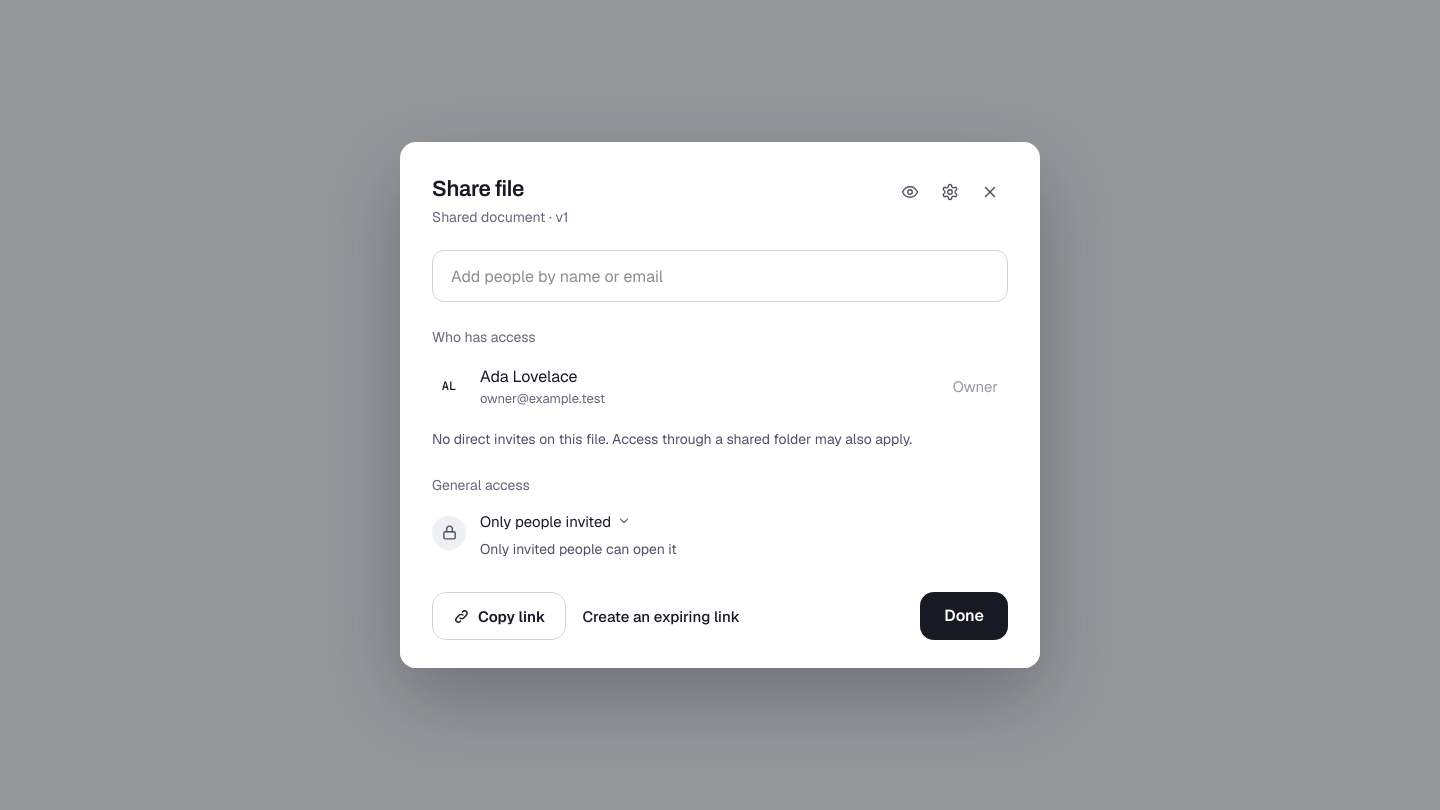
Test case: ShareDialog Invite view › opens on focus, picks from the checklist and invites with the role and pin in the input
Click the field labelled "Add people by name or email" at (720,276), box [432,250,1008,302]
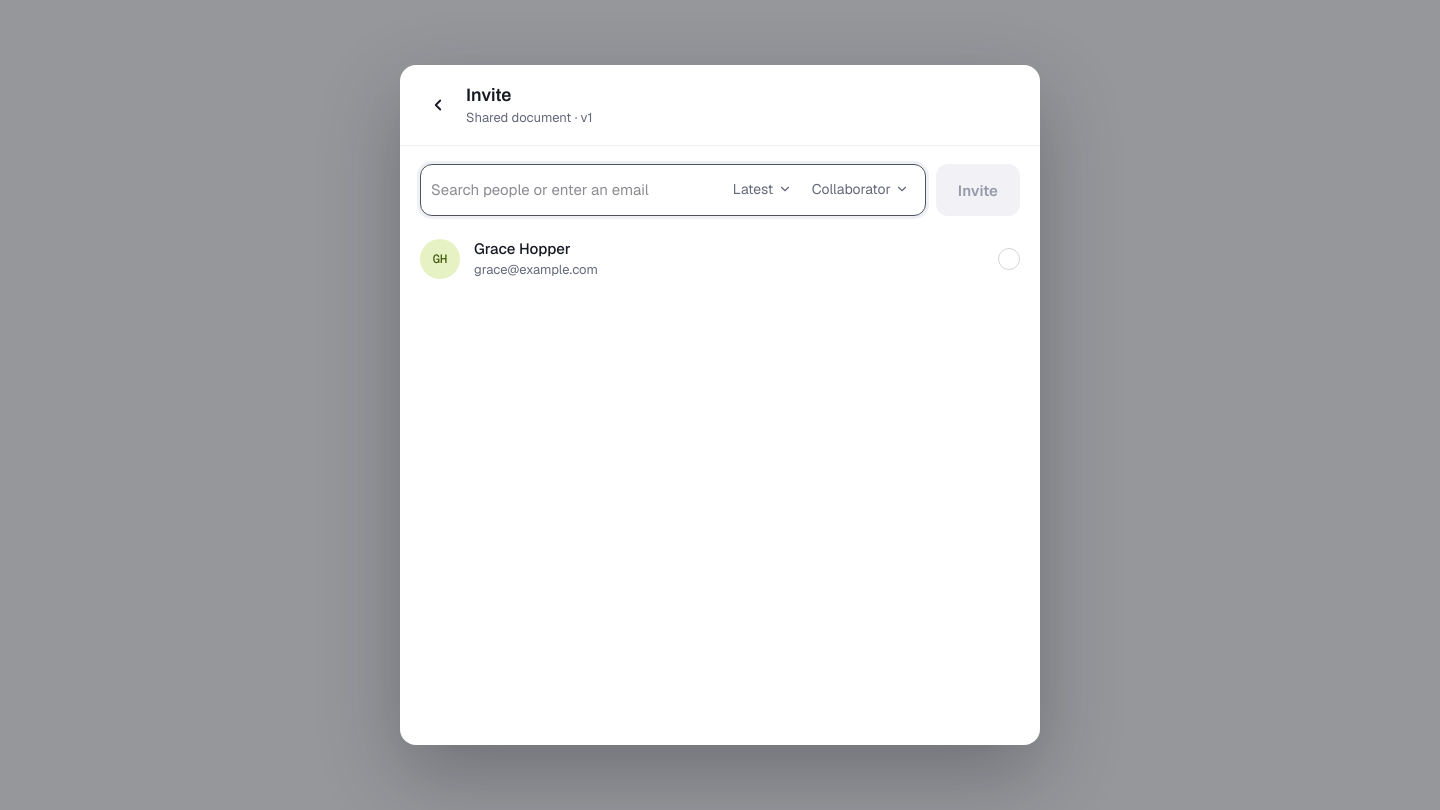
Check: the button "Invite" is disabled, box [936,164,1020,216]
Check: the heading "Invite" is shown, box [466,85,511,105]
Check: the dropdown named "Version they see" shows "Latest", box [723,173,800,205]
Click the checkbox labelled "GH Grace Hopper grace@example.com" at (440,259), box [408,228,1032,290]
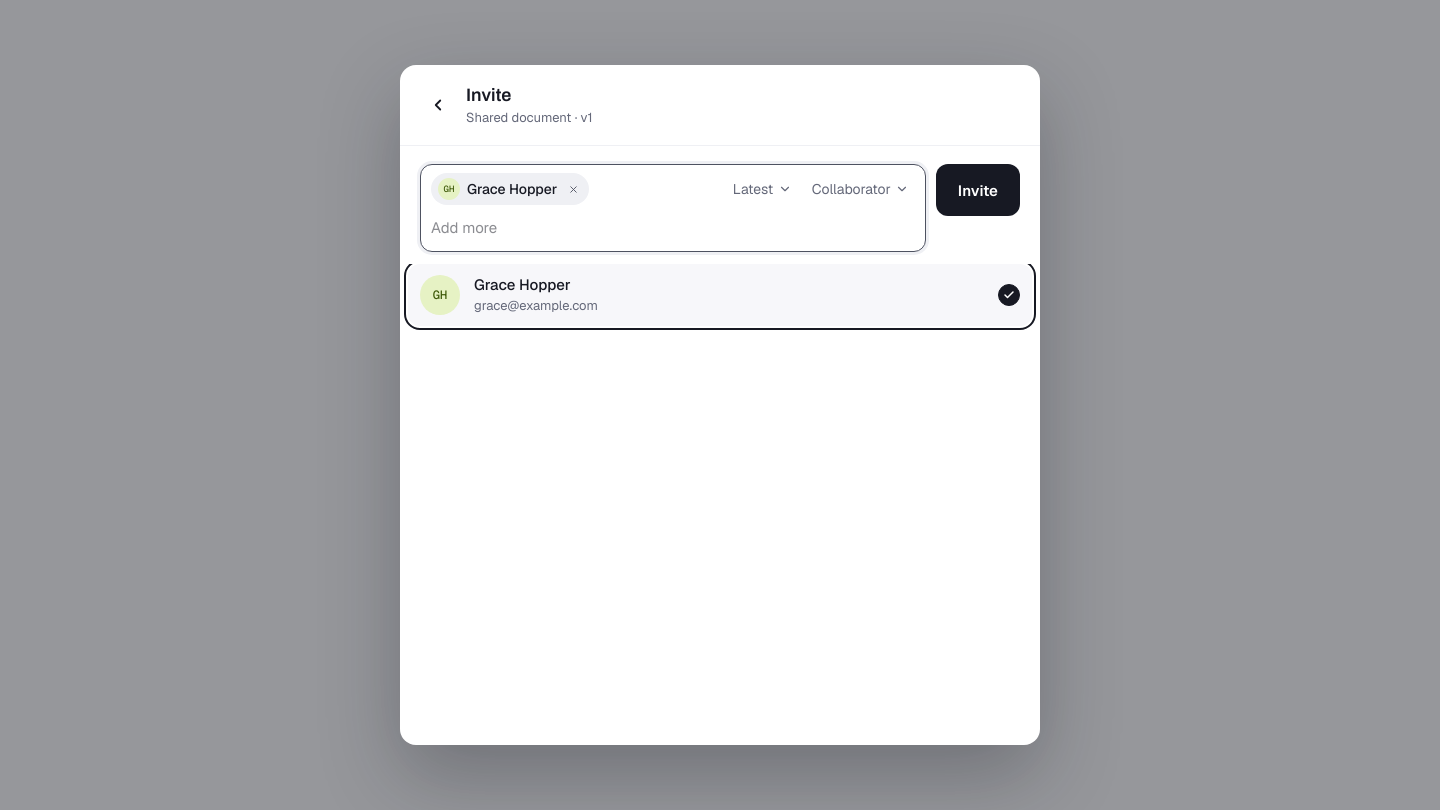
Check: the button named "Remove grace@example.com" is shown, box [564,180,582,198]
Select "Editor" in the dropdown named "Invite as" at (859,189), box [802,173,917,205]
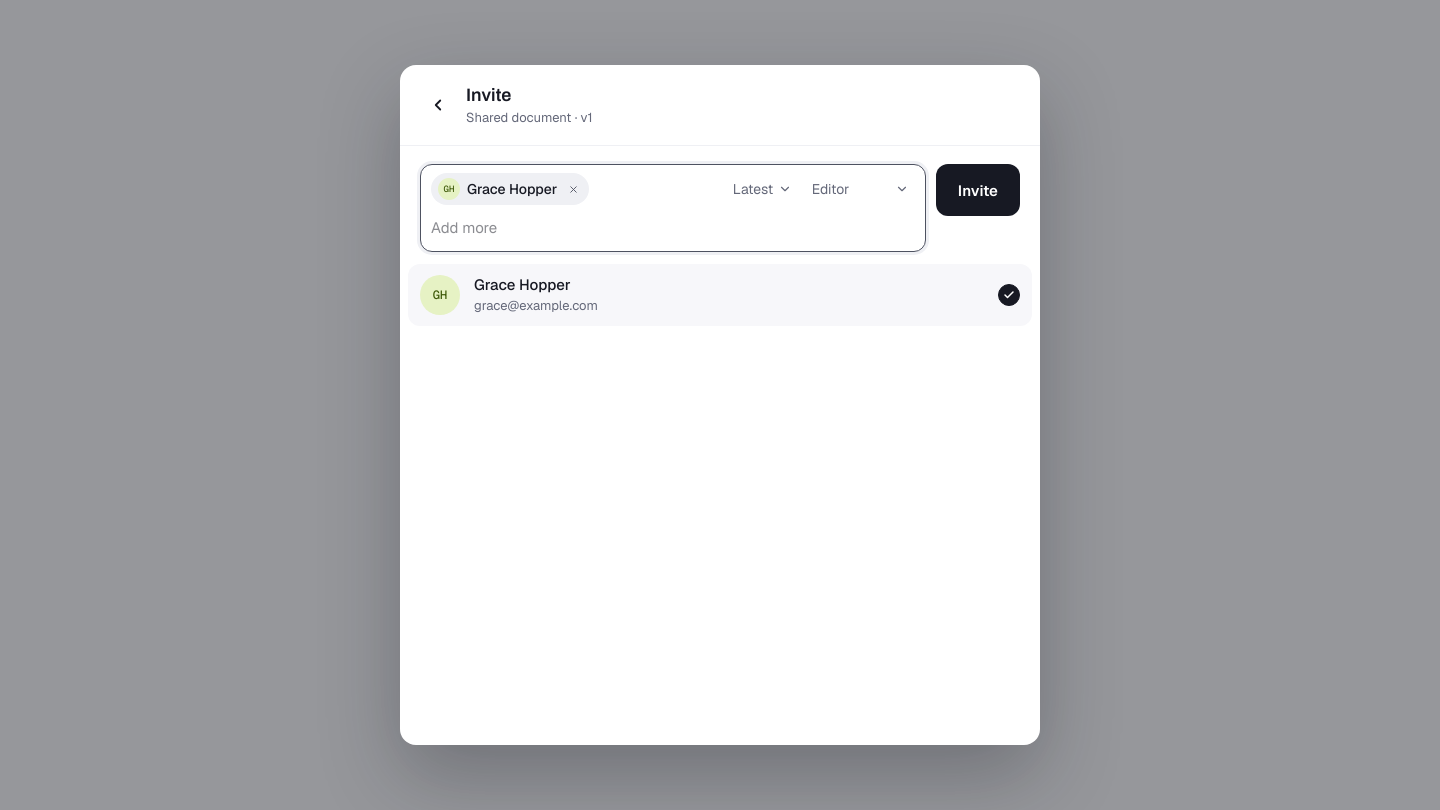
Click the button "Invite" at (978,190), box [936,164,1020,216]
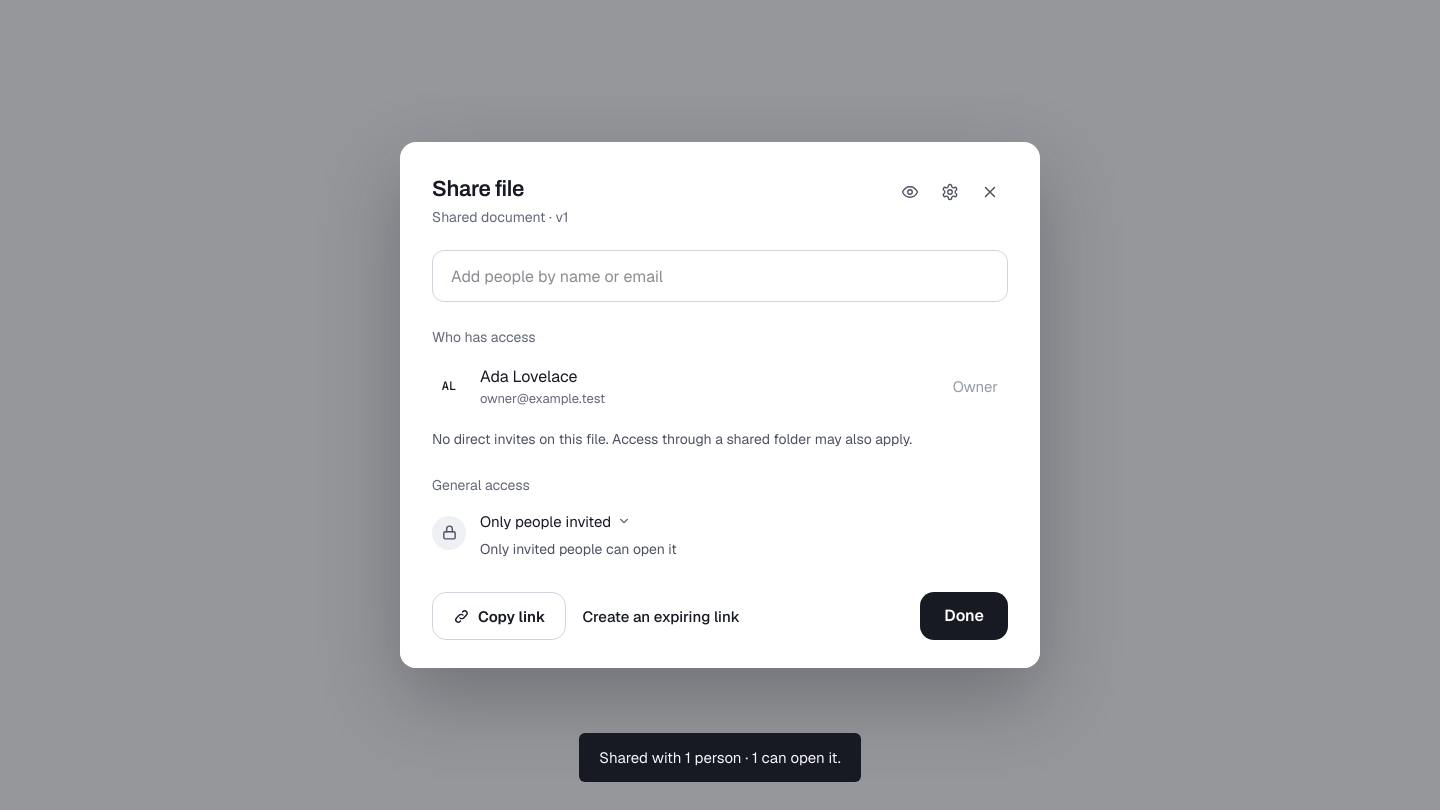
Check: the text "Shared with 1 person · 1 can open it." is shown, box [579,733,861,782]
Check: the text "Who has access" is shown, box [432,328,536,346]
